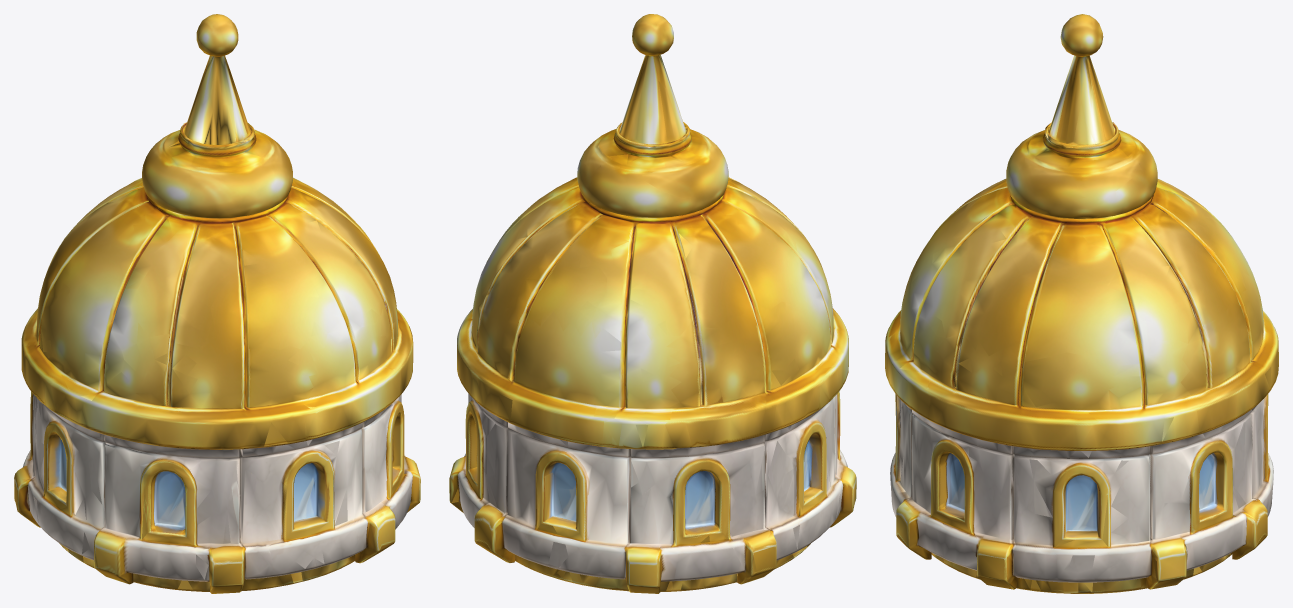
The model's file is HaloPart_TowerDome_HD_LOD.glb.
The picture shows the model from 3 angles, left to right: view 1: azimuth 30°, elevation 25°; view 2: azimuth 150°, elevation 25°; view 3: azimuth 270°, elevation 25°; orthographic projection.
Parts seen in each view (by area): view 1: tripo_node_3fa9aab8-655b-405c-a69a-2028c88fe3a5; view 2: tripo_node_3fa9aab8-655b-405c-a69a-2028c88fe3a5; view 3: tripo_node_3fa9aab8-655b-405c-a69a-2028c88fe3a5.
Part boxes in pixels (box(x1,y1,x2,y2)): tripo_node_3fa9aab8-655b-405c-a69a-2028c88fe3a5: box(14, 14, 420, 593); tripo_node_3fa9aab8-655b-405c-a69a-2028c88fe3a5: box(449, 14, 856, 593); tripo_node_3fa9aab8-655b-405c-a69a-2028c88fe3a5: box(885, 14, 1278, 593).
Bounding box in the file's own units: 0.6834 × 0.9779 × 0.6862.
1 material, 1 textured.
